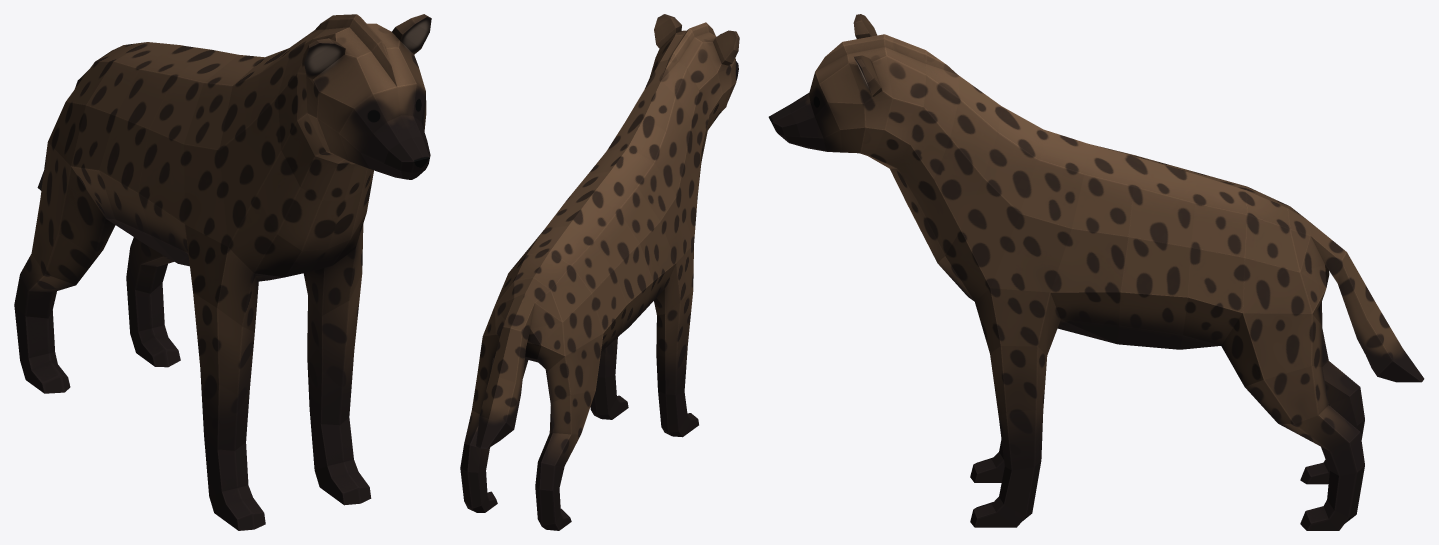
Rendered from hyena.glb.
The picture shows the model from 3 angles, left to right: view 1: azimuth 30°, elevation 25°; view 2: azimuth 150°, elevation 25°; view 3: azimuth 270°, elevation 25°; orthographic projection. The views are drawn at different scales.
Parts seen in each view (by area): view 1: node-0; view 2: node-0; view 3: node-0.
Part boxes in pixels (box(x1,y1,x2,y2)): node-0: box(14, 14, 431, 530); node-0: box(460, 14, 739, 530); node-0: box(768, 14, 1424, 530).
Size of the model in its own units: 1.09 by 3.43 by 4.36.
Materials: 1 (1 with a texture image).
